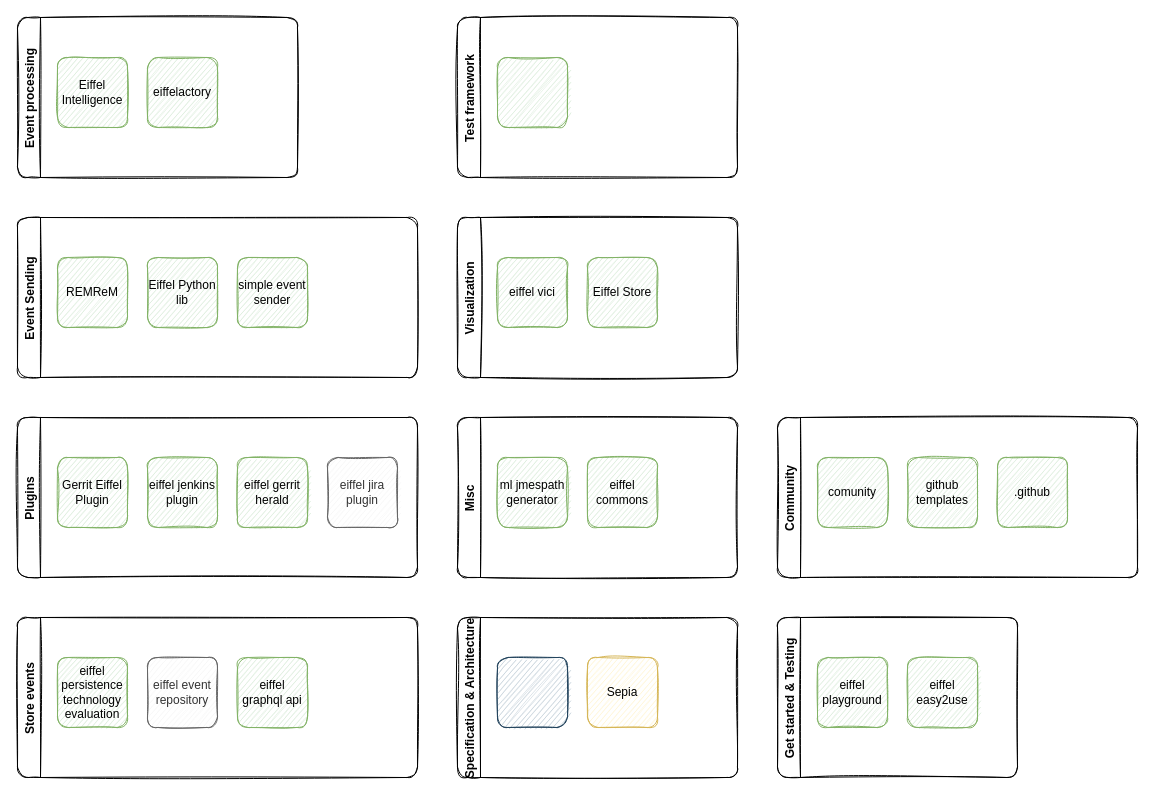
The diagram is 1155 pixels wide and 795 high, and some of its shapes have lost their labels. Each missing label, with the centre of its shape:
"ETOS" goes at point 532,92.
"Protocol" goes at point 532,692.
